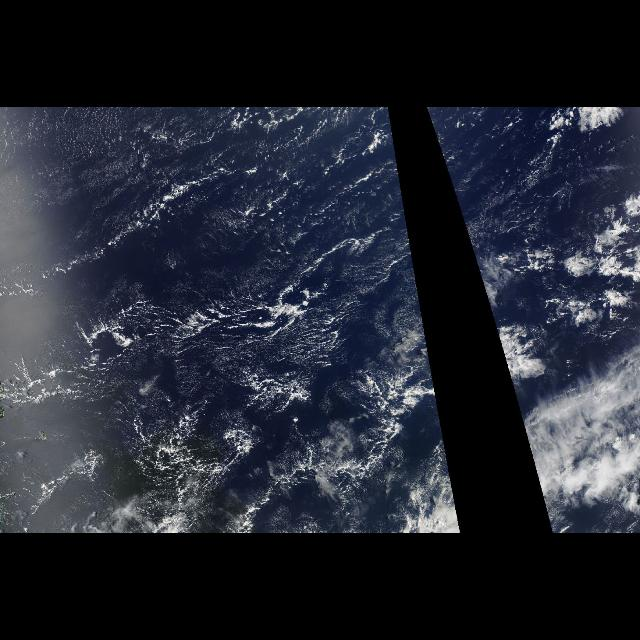Fish: (21, 274, 435, 534)
Flower: (512, 183, 640, 337)
Gravel: (13, 303, 407, 507)
Sugar: (1, 110, 396, 290)
